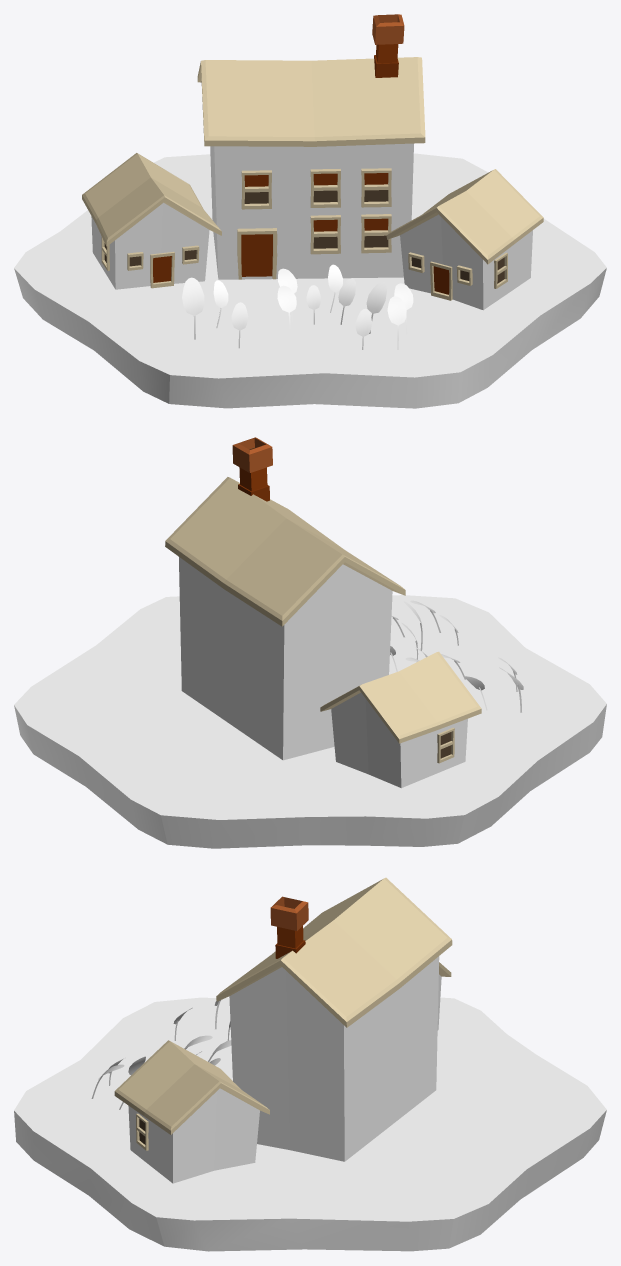
The model's file is Prairie_City.fbx.
3 renders of one model, top to bottom at view 1: azimuth 30°, elevation 25°; view 2: azimuth 150°, elevation 25°; view 3: azimuth 270°, elevation 25°, orthographic.
Visible parts, largest first — view 1: Prarie_City; view 2: Prarie_City; view 3: Prarie_City.
Boxes of the visible parts, x1=… form: Prarie_City: x1=14, y1=14, x2=606, y2=408; Prarie_City: x1=14, y1=437, x2=606, y2=848; Prarie_City: x1=14, y1=877, x2=606, y2=1251.
Bounding box in the file's own units: 0.9199 × 0.5156 × 1.02.
